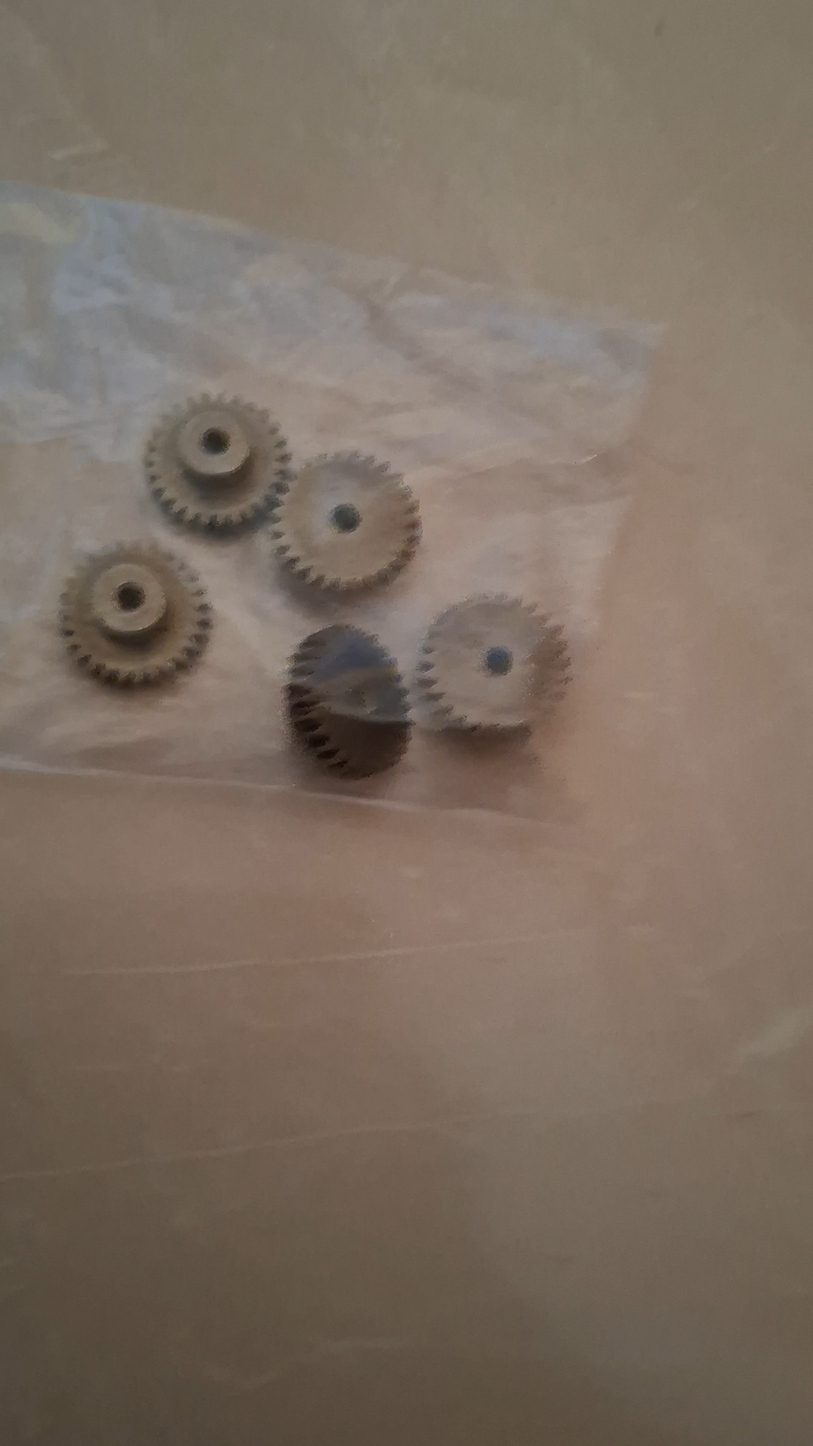spur gear: (59, 543, 211, 684), (272, 453, 420, 590), (419, 595, 569, 729), (145, 395, 290, 530), (286, 624, 410, 778)
